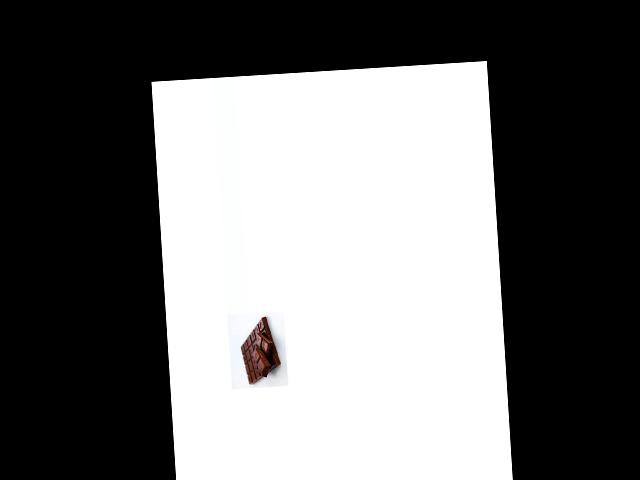chocolate: (235, 314, 284, 385)
